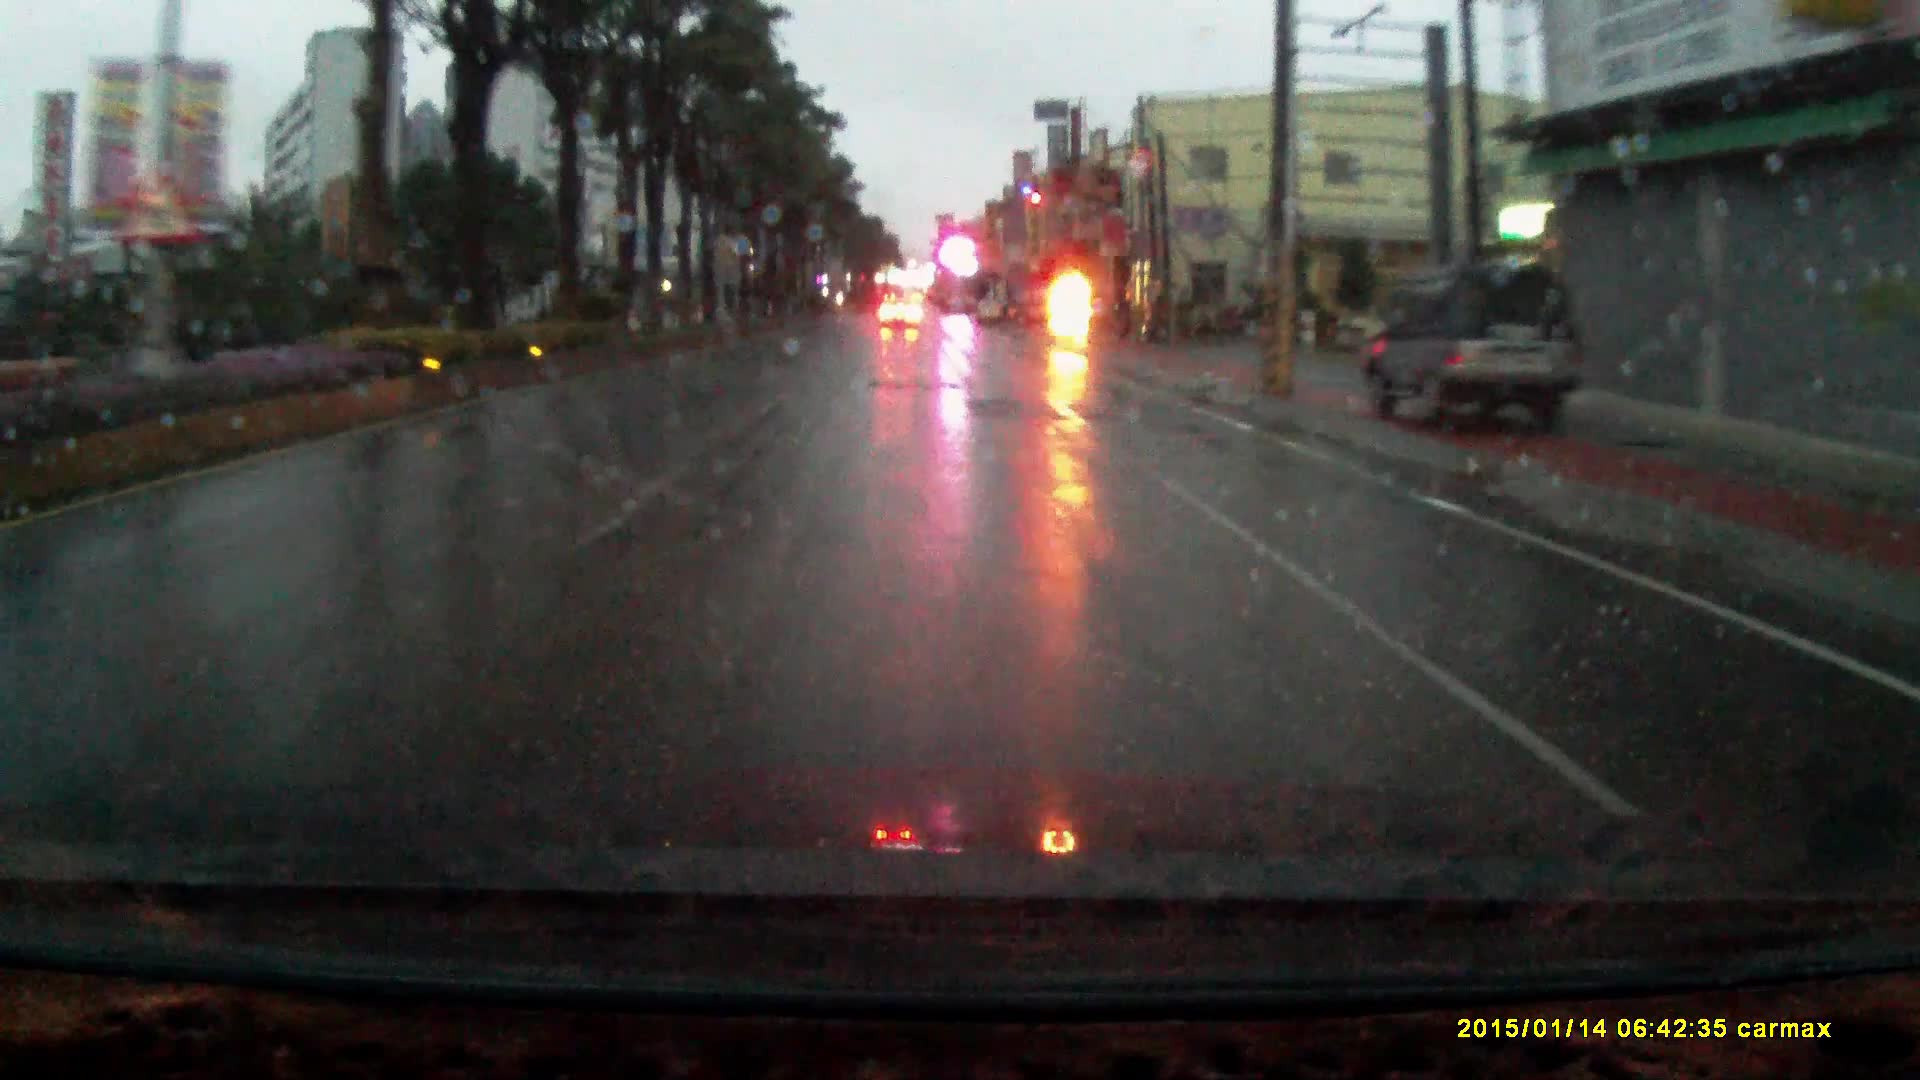vehicle: (1366, 264, 1586, 438), (1006, 294, 1062, 331), (878, 295, 922, 330)
